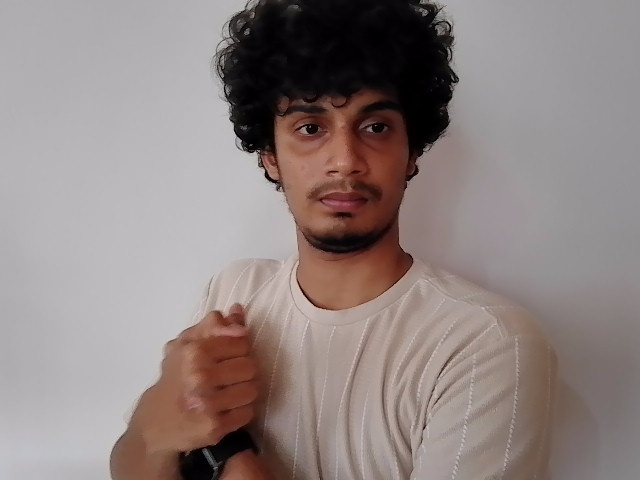love: (134, 304, 280, 457)
